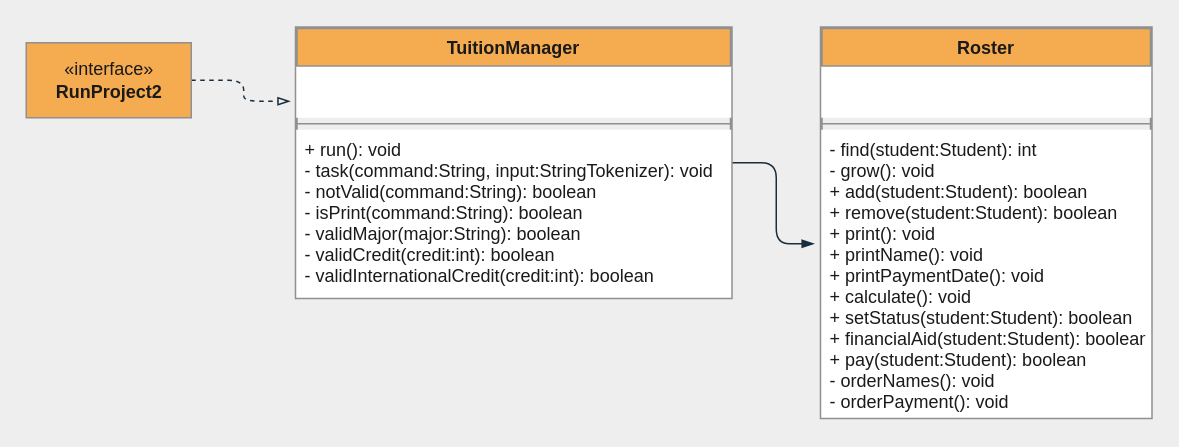
The diagram is 1179 pixels wide and 447 high, and some of its shapes have lost their labels. Each missing label, with the centre of its shape:
"+ arr: Roster - running: boolean" belongs at (x=513, y=91).
"- roster: Student[] - size: int" belongs at (x=985, y=91).
